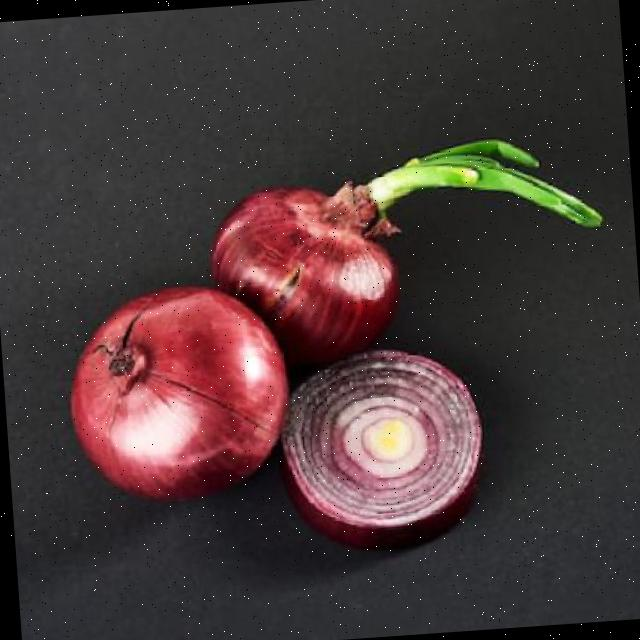Onion: (71, 287, 289, 501), (211, 182, 400, 367)
